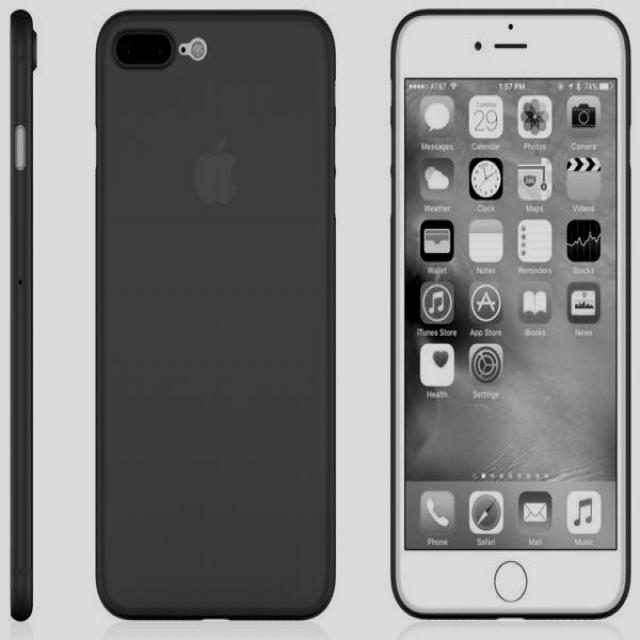fake: (90, 0, 342, 627), (384, 5, 632, 624)
